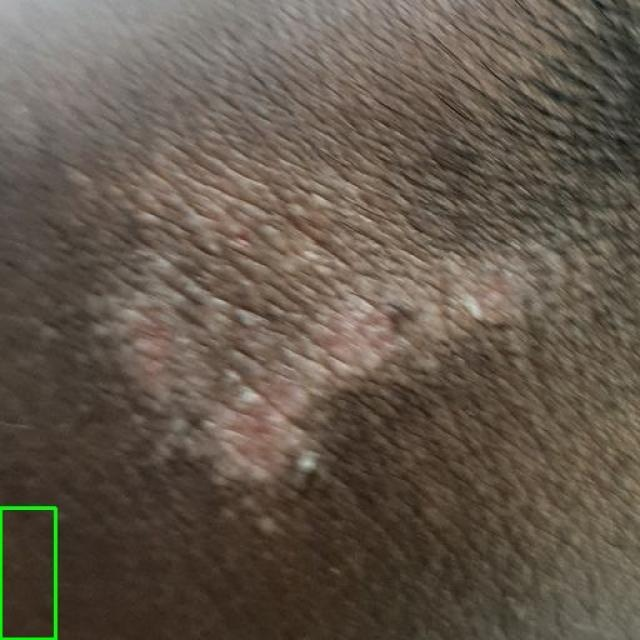Contact Dermatitis: (0, 508, 55, 639)
